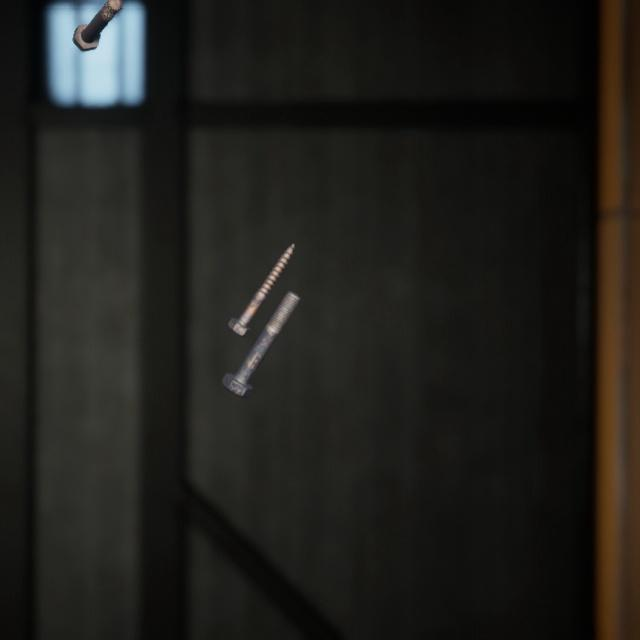bolt: (217, 267, 305, 383), (223, 220, 299, 324), (68, 0, 125, 48)
